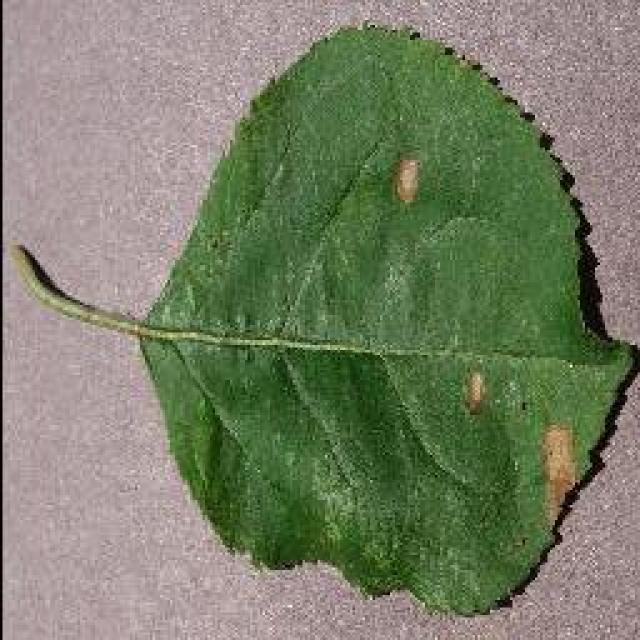apple black rot: (12, 18, 638, 618)
